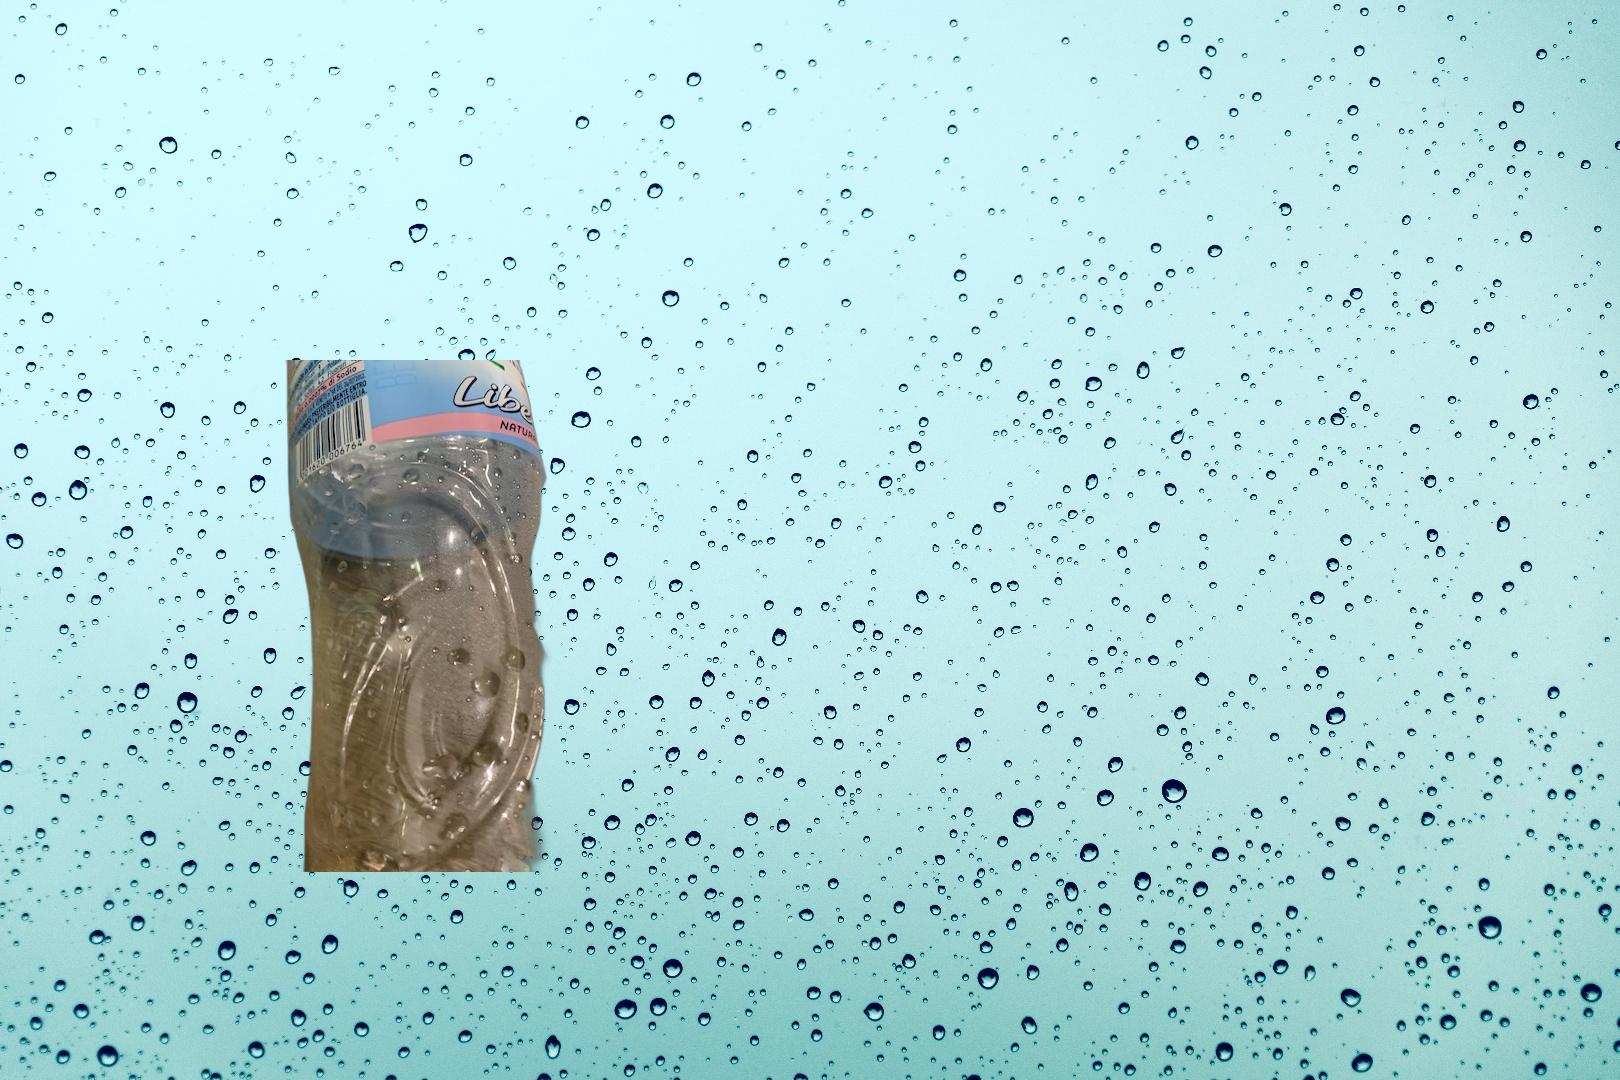plastic-bottles: (284, 360, 554, 871)
